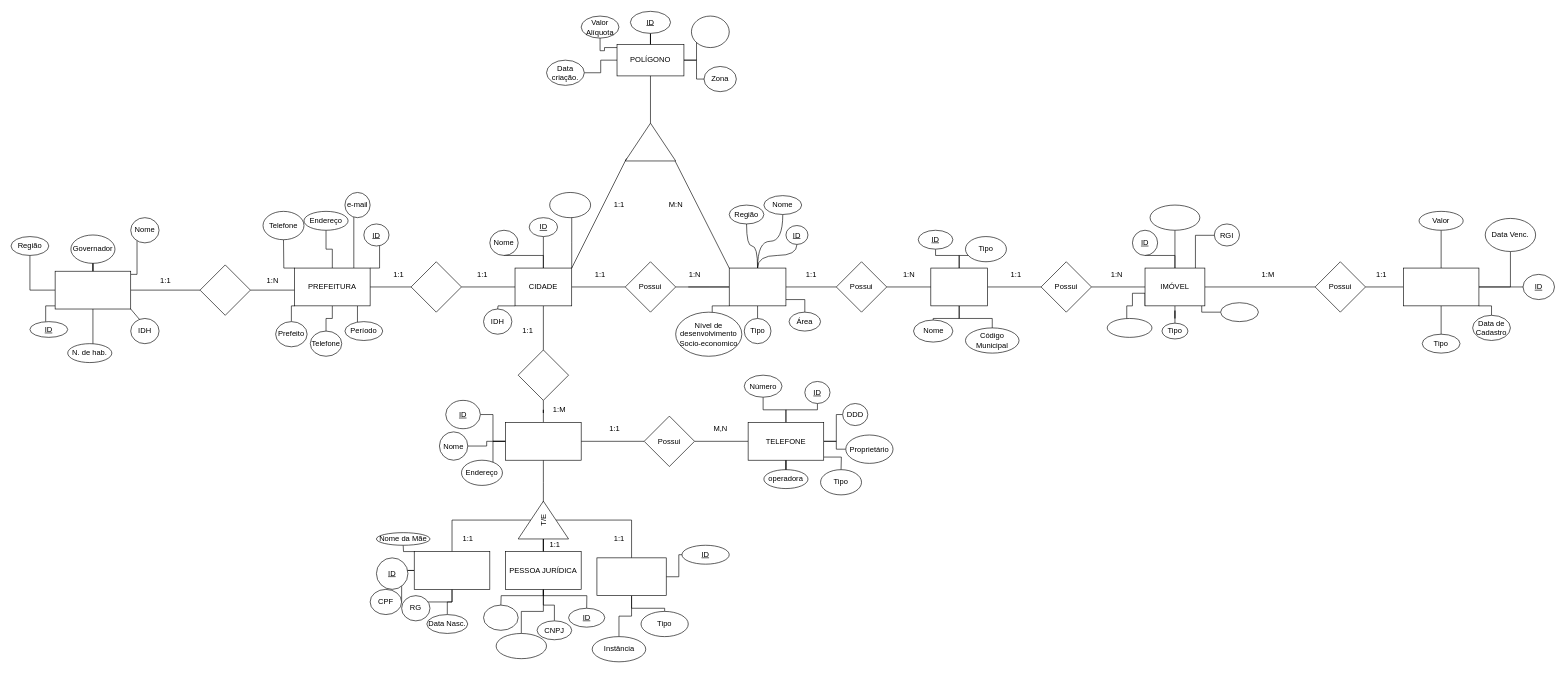
This 1566x673 diagram has some shape labels left out. Here are the shapes that lost their labels. From the top down, the centre of each, then its label:
the point at 710,31: Geometria
the point at 650,142: P/E
the point at 570,205: N. Hab
the point at 1174,217: Proprietário/s
the point at 92,290: ESTADO / UN. FEDERATIVA
the point at 224,289: Organiza
the point at 435,286: Governa
the point at 757,286: BAIRRO
the point at 959,286: LOGRADOURO
the point at 1441,286: IPTU
the point at 1129,327: Geocódigo
the point at 1239,312: Valor Venal
the point at 543,374: DISPÕE
the point at 543,441: ENTIDADES
the point at 452,570: PESSOA FÍSICA
the point at 631,576: ORGÃO GOVERNAMENTAL
the point at 500,617: Razão Social
the point at 521,646: Data de Cad. CNPJ
